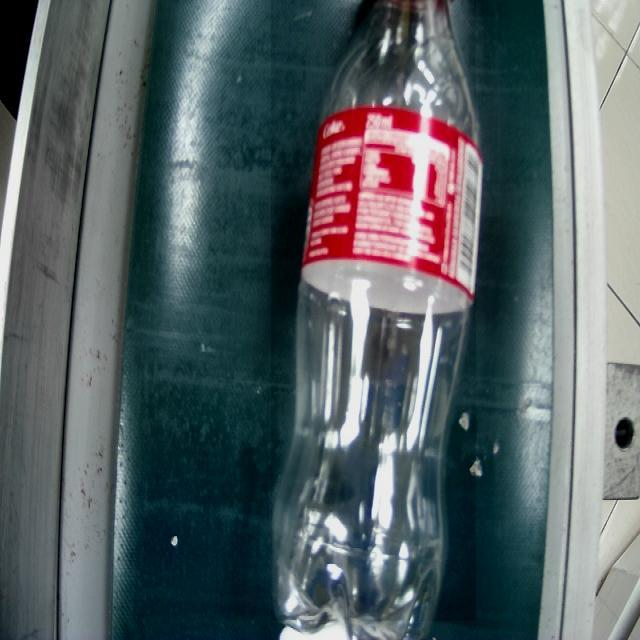Pet_Bottle: (271, 0, 476, 621)
